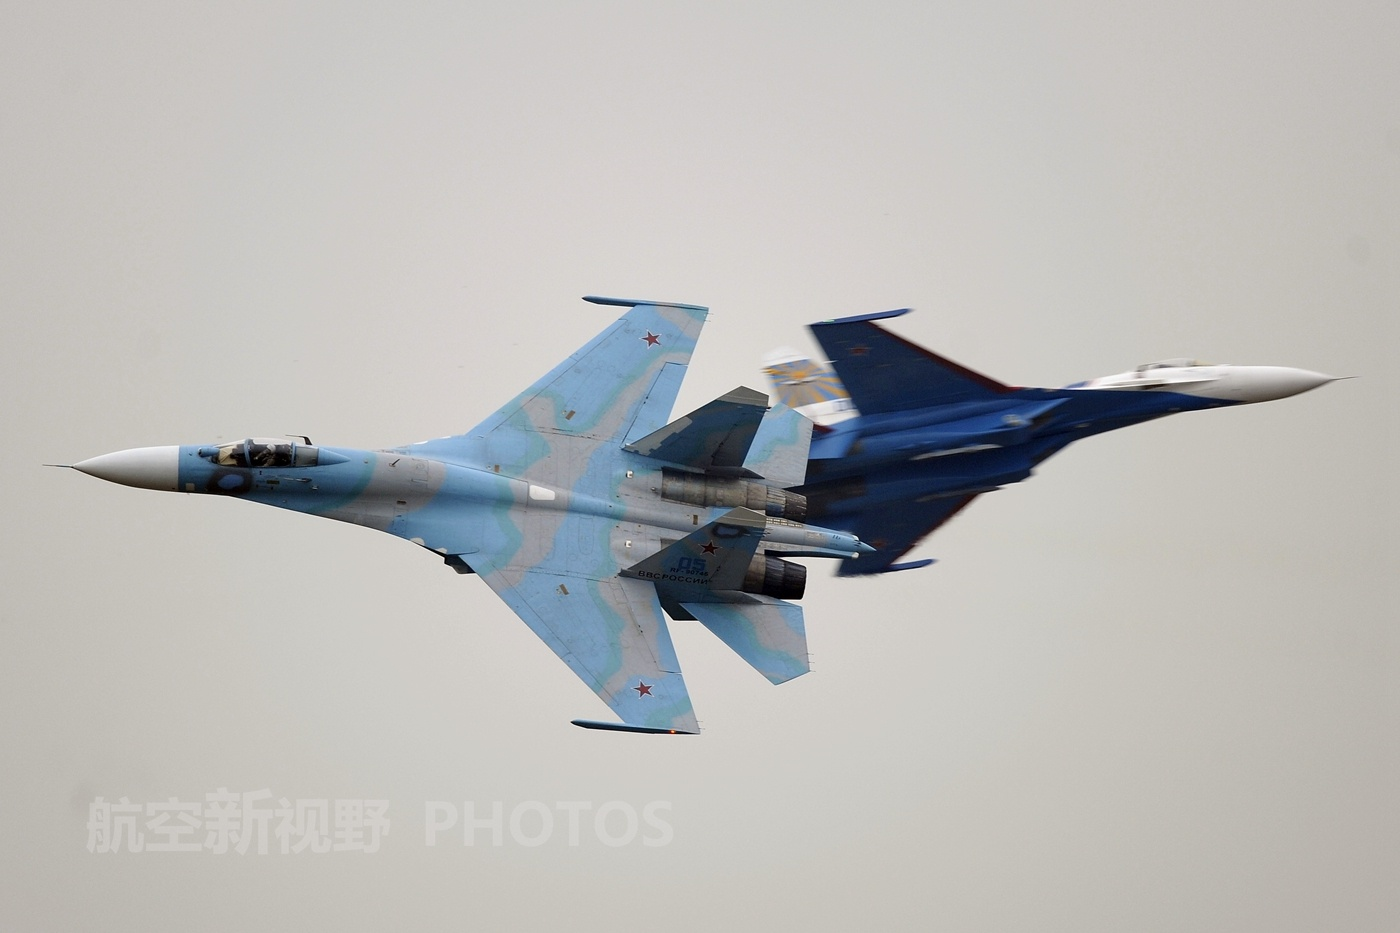airplane: (20, 289, 848, 741), (728, 297, 1350, 580)
